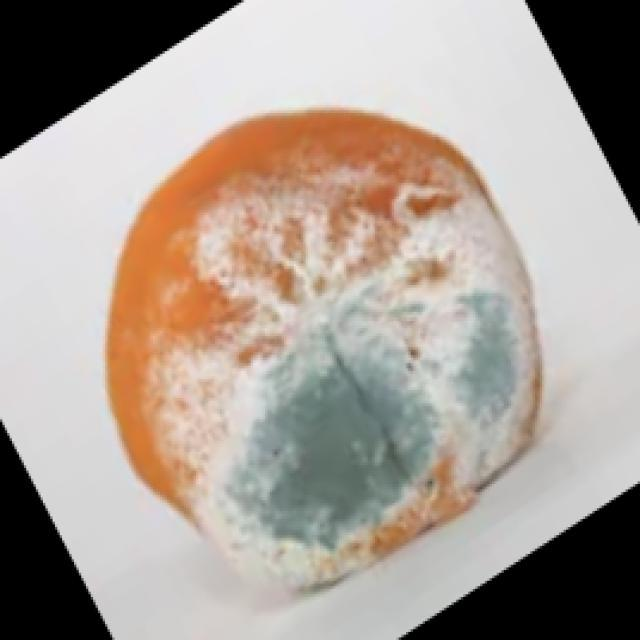sangat-busuk: (107, 109, 542, 598), (107, 203, 569, 596)
